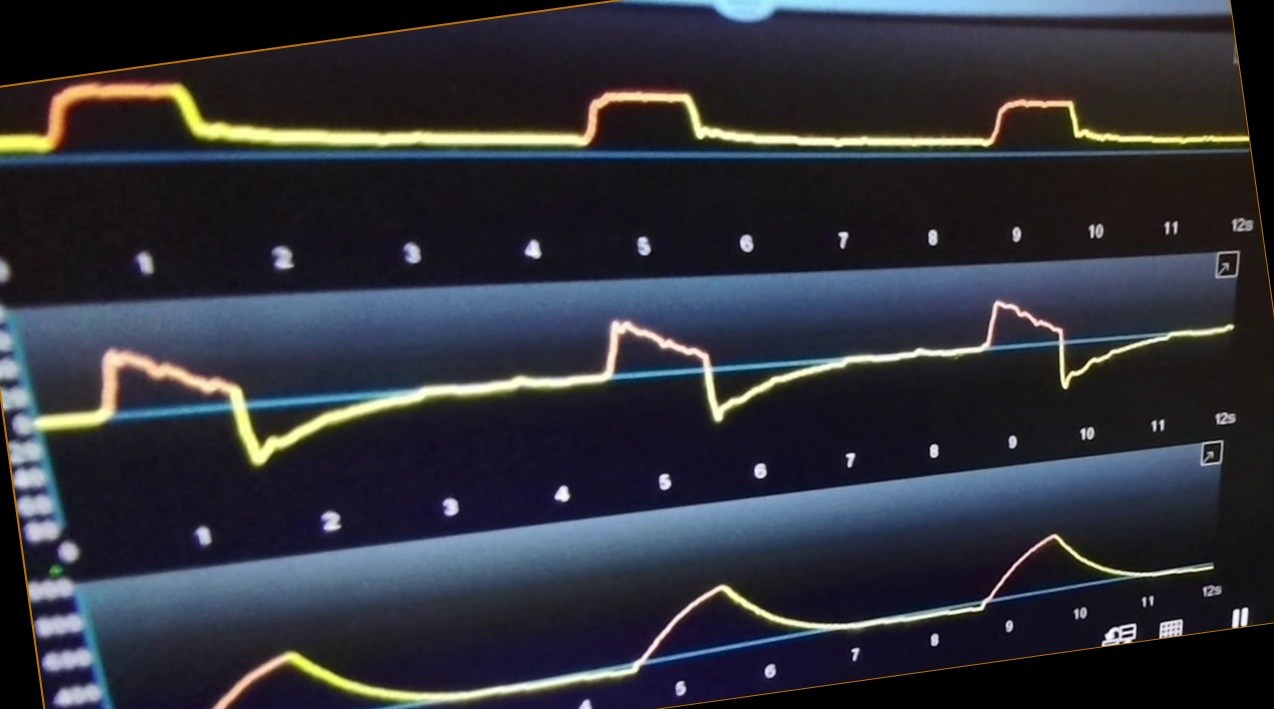Accumulation Flow: (64, 299, 1232, 471)
Volume: (178, 526, 1211, 709)
